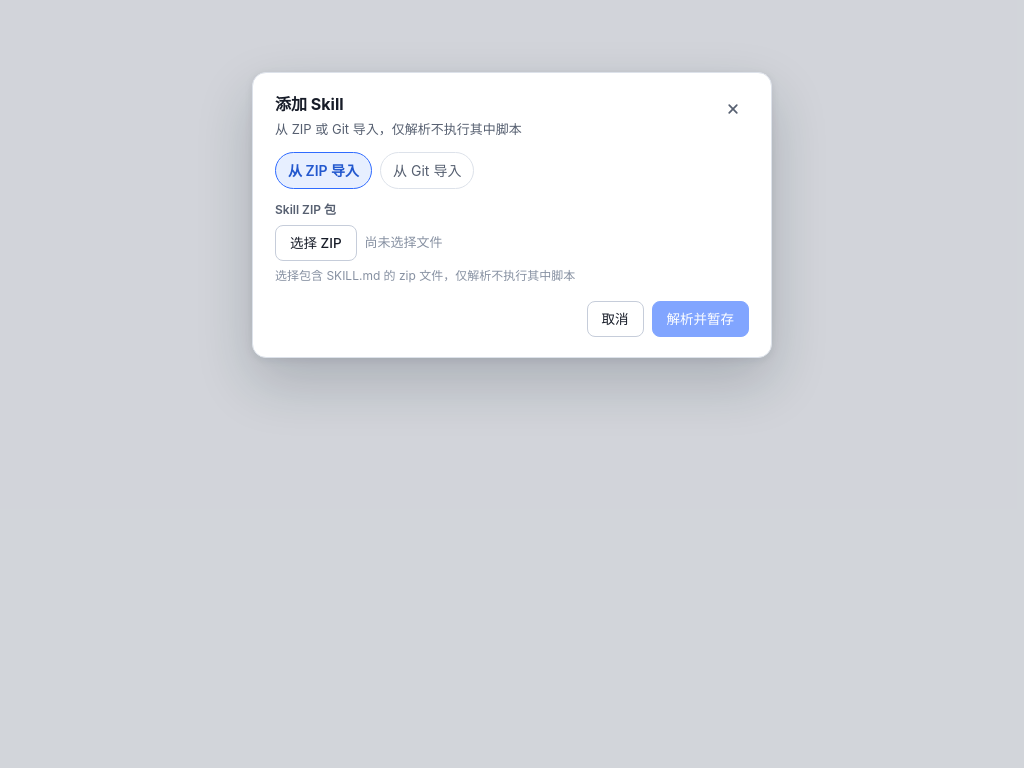
Test: SkillImportDialog › states the single-skill package expectation for git import
What coordinates should you click on to do the following:
click the tab with test id "import-tab-git"
I would click on:
 (427, 170)
Its box is [380,152,474,188].
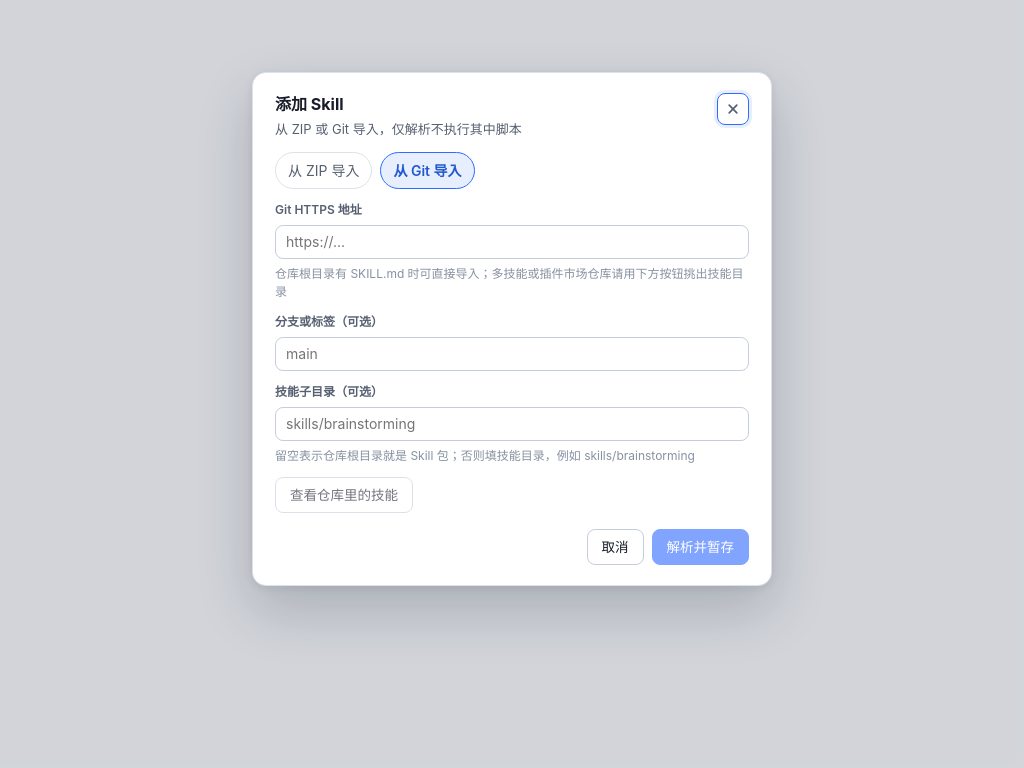
Now the text "仓库根目录有 SKILL.md" is shown, box [275,266,744,298]
